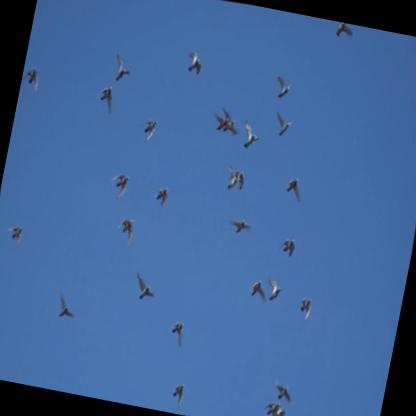bird: (130, 269, 158, 303), (208, 110, 242, 137), (18, 63, 44, 98), (239, 116, 265, 151), (105, 168, 131, 203), (225, 211, 256, 240), (269, 378, 298, 409), (291, 292, 317, 326), (244, 275, 272, 306), (217, 105, 244, 136), (92, 81, 117, 114), (112, 215, 137, 248), (269, 109, 296, 139), (54, 293, 81, 323), (111, 51, 135, 84), (280, 174, 305, 205), (135, 114, 158, 146), (0, 219, 23, 250), (165, 318, 188, 349), (184, 48, 205, 77), (272, 74, 294, 101), (167, 381, 186, 411), (150, 181, 171, 208), (222, 164, 242, 192), (276, 235, 298, 260), (226, 168, 247, 193), (264, 277, 283, 303), (335, 21, 357, 39), (260, 398, 280, 416), (271, 406, 287, 416)
